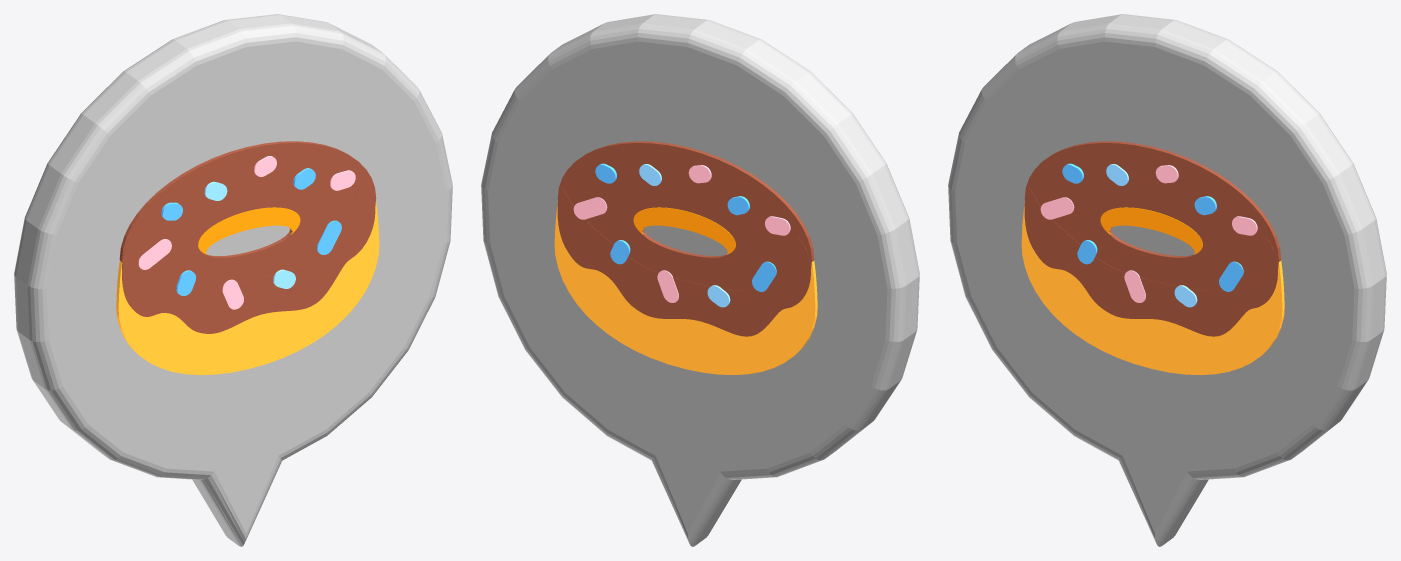
File: doughnut.glb
3 views of the same model, side by side, from view 1: azimuth 30°, elevation 25°; view 2: azimuth 150°, elevation 25°; view 3: azimuth 330°, elevation 25° (orthographic).
Visible parts, largest first — view 1: EmotionBubble; view 2: EmotionBubble; view 3: EmotionBubble.
Boxes of the visible parts, left/top/right/bottom form: EmotionBubble: left=14, top=14, right=452, bottom=546; EmotionBubble: left=481, top=14, right=919, bottom=546; EmotionBubble: left=948, top=14, right=1386, bottom=546.
Bounding box in the file's own units: 5.29 × 6.16 × 0.748.
